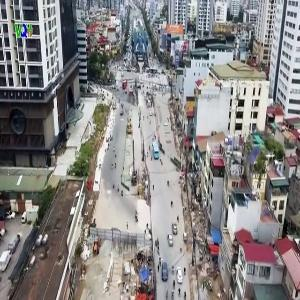drone: (233, 128, 293, 188)
